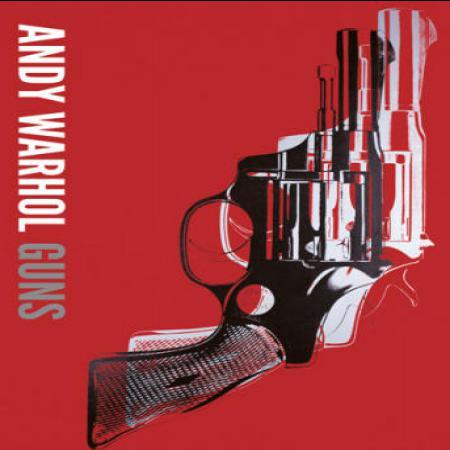Pistol: (124, 5, 442, 428), (86, 27, 400, 448)
